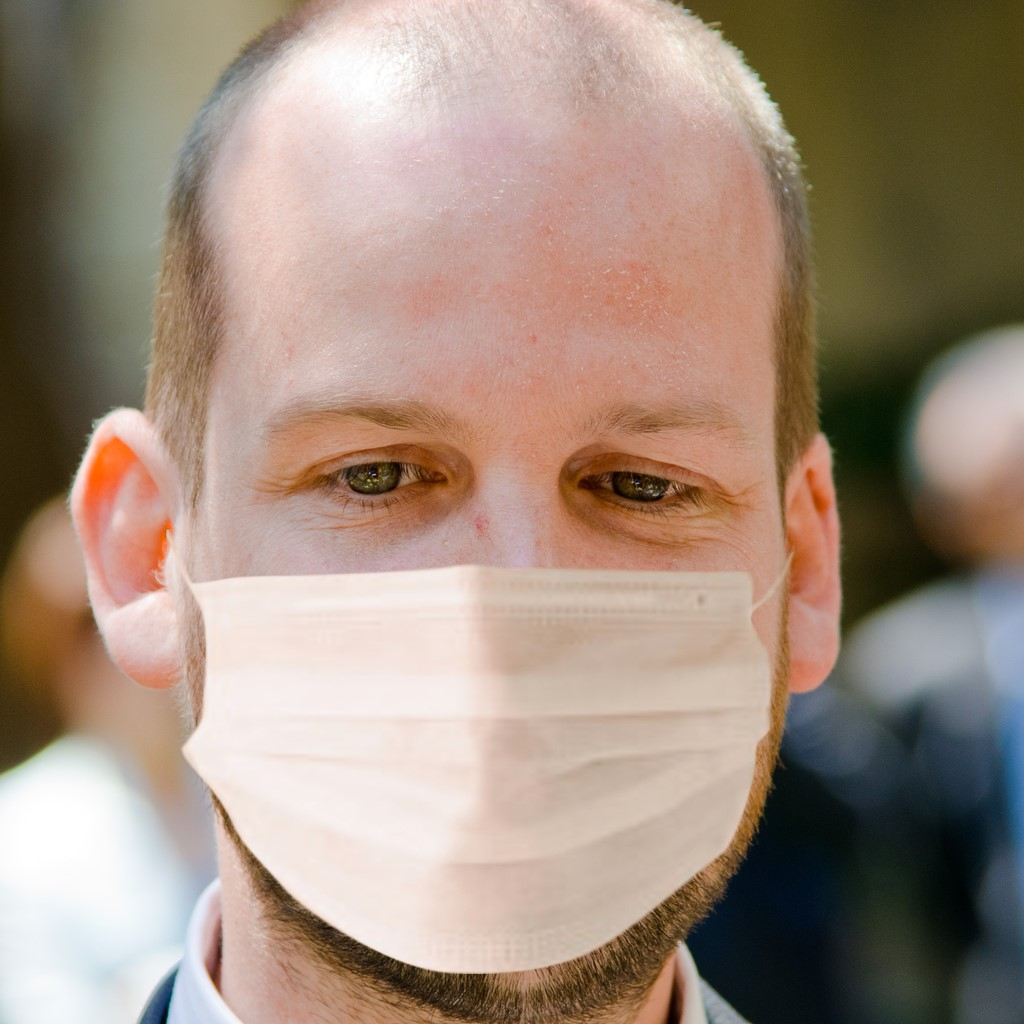con_mascara: (143, 67, 814, 974)
